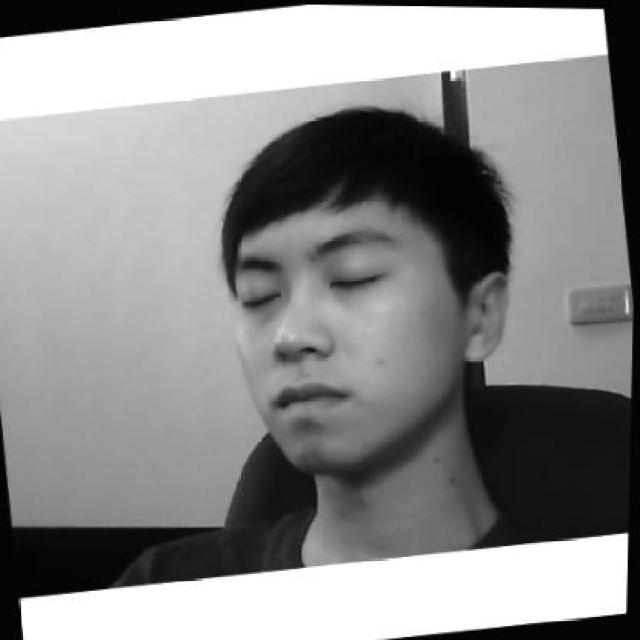inattentif: (203, 85, 532, 482)
